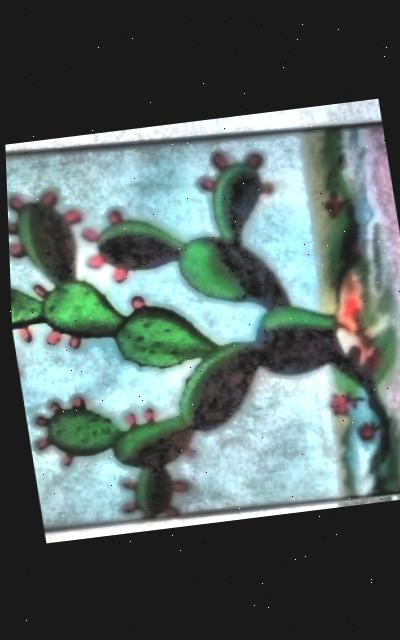El Nopal: (4, 121, 400, 532)
